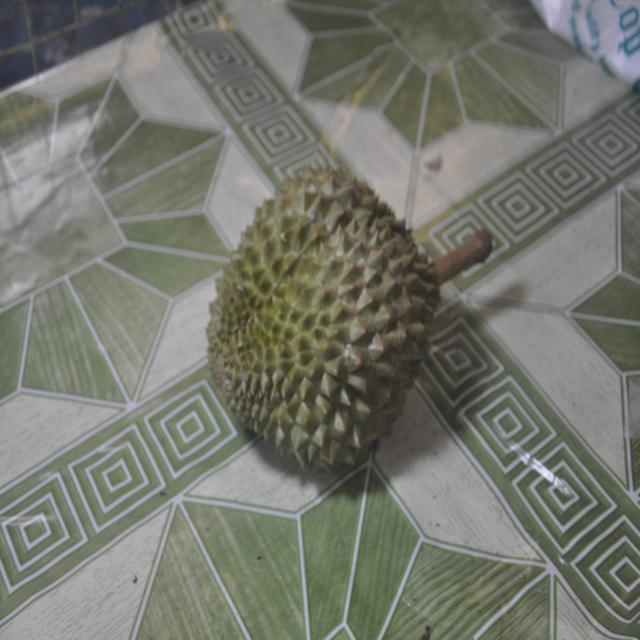mature: (207, 167, 491, 471)
